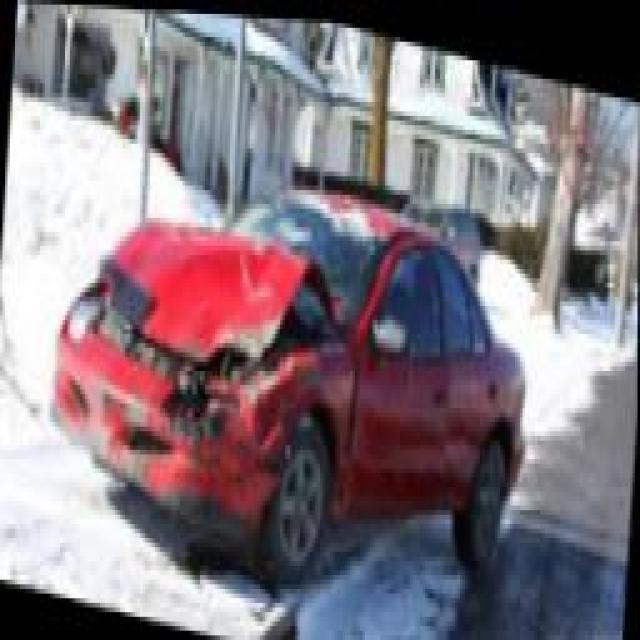replaceable: (65, 251, 308, 528)
